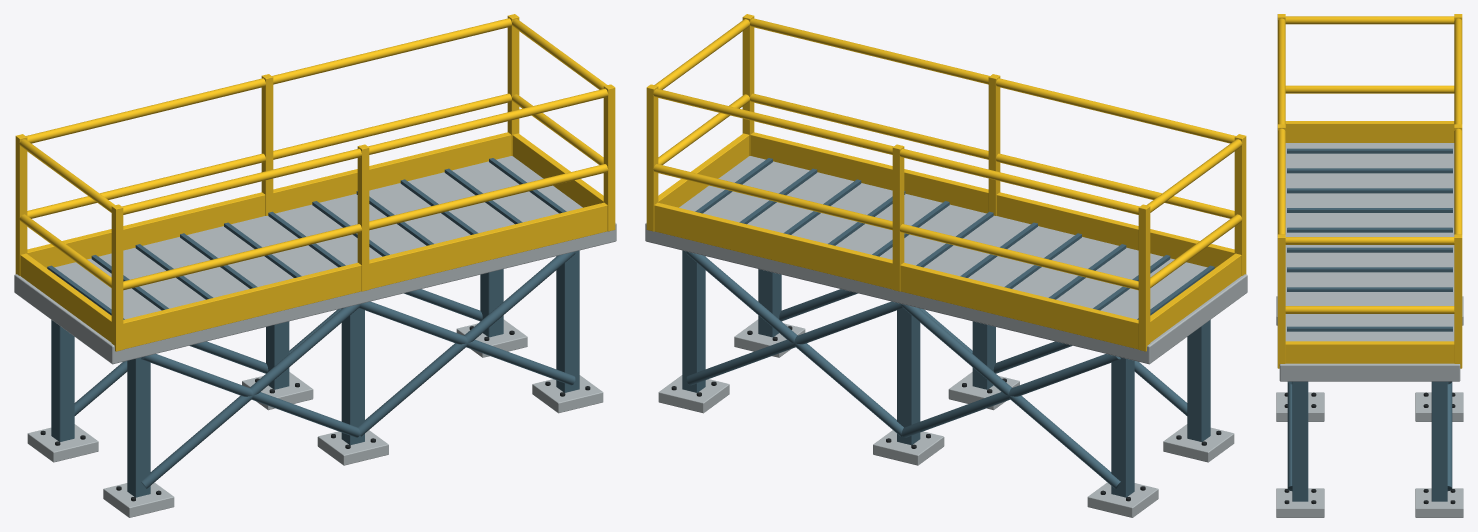
File: elevated_catwalk_platform.glb
3 views of the same model, side by side, from view 1: azimuth 30°, elevation 25°; view 2: azimuth 150°, elevation 25°; view 3: azimuth 270°, elevation 25° (orthographic). The views are drawn at different scales.
Parts seen in each view (by area): view 1: CATWALK_deck, CATWALK_toe_-0.66, CATWALK_toe_0.66, CATWALK_rail_-0.66_2.32, CATWALK_rail_-0.66_1.75, CATWALK_rail_0.66_2.32, CATWALK_rail_0.66_1.75, CATWALK_leg_-1.7_-0.52, CATWALK_leg_1.7_-0.52, CATWALK_brace_-0.58_-1.7_0, CATWALK_brace_-0.58_0_1.7, CATWALK_leg_0_-0.52 (+26 smaller); view 2: CATWALK_deck, CATWALK_toe_0.66, CATWALK_toe_-0.66, CATWALK_rail_0.66_2.32, CATWALK_rail_0.66_1.75, CATWALK_rail_-0.66_2.32, CATWALK_rail_-0.66_1.75, CATWALK_leg_-1.7_0.52, CATWALK_leg_1.7_0.52, CATWALK_brace_0.58_-1.7_0, CATWALK_brace_0.58_0_1.7, CATWALK_leg_0_0.52 (+26 smaller); view 3: CATWALK_deck, CATWALK_end_toe_1.95, CATWALK_end_toe_-1.95, CATWALK_leg_1.7_0.52, CATWALK_leg_1.7_-0.52, CATWALK_rail_0.66_2.32, CATWALK_rail_-0.66_2.32, CATWALK_end_rail_-1.95_1.75, CATWALK_end_rail_-1.95_2.32, CATWALK_end_rail_1.95_1.75, CATWALK_end_rail_1.95_2.32, CATWALK_base_plate_1.7_0.52 (+16 smaller).
Boxes of the visible parts, <box> form: CATWALK_deck: <box>14,156,616,364</box>; CATWALK_toe_-0.66: <box>123,202,607,349</box>; CATWALK_toe_0.66: <box>27,132,511,268</box>; CATWALK_rail_-0.66_2.32: <box>122,88,608,214</box>; CATWALK_rail_-0.66_1.75: <box>123,164,608,290</box>; CATWALK_rail_0.66_2.32: <box>26,18,511,143</box>; CATWALK_rail_0.66_1.75: <box>27,93,511,218</box>; CATWALK_leg_-1.7_-0.52: <box>127,357,150,497</box>; CATWALK_leg_1.7_-0.52: <box>556,250,579,392</box>; CATWALK_brace_-0.58_-1.7_0: <box>141,304,360,488</box>; CATWALK_brace_-0.58_0_1.7: <box>358,251,575,436</box>; CATWALK_leg_0_-0.52: <box>341,308,364,445</box>; CATWALK_deck: <box>645,156,1247,364</box>; CATWALK_toe_0.66: <box>654,202,1138,349</box>; CATWALK_toe_-0.66: <box>750,132,1234,268</box>; CATWALK_rail_0.66_2.32: <box>653,88,1139,214</box>; CATWALK_rail_0.66_1.75: <box>653,164,1138,290</box>; CATWALK_rail_-0.66_2.32: <box>750,18,1235,143</box>; CATWALK_rail_-0.66_1.75: <box>750,93,1234,218</box>; CATWALK_leg_-1.7_0.52: <box>1111,357,1134,497</box>; CATWALK_leg_1.7_0.52: <box>682,250,705,392</box>; CATWALK_brace_0.58_-1.7_0: <box>901,304,1120,488</box>; CATWALK_brace_0.58_0_1.7: <box>686,251,903,436</box>; CATWALK_leg_0_0.52: <box>897,308,920,445</box>; CATWALK_deck: <box>1279,143,1460,381</box>; CATWALK_end_toe_1.95: <box>1285,341,1454,363</box>; CATWALK_end_toe_-1.95: <box>1285,121,1454,142</box>; CATWALK_leg_1.7_0.52: <box>1431,381,1447,501</box>; CATWALK_leg_1.7_-0.52: <box>1292,381,1308,501</box>; CATWALK_rail_0.66_2.32: <box>1454,18,1462,234</box>; CATWALK_rail_-0.66_2.32: <box>1277,18,1285,234</box>; CATWALK_end_rail_-1.95_1.75: <box>1285,85,1454,93</box>; CATWALK_end_rail_-1.95_2.32: <box>1285,16,1454,24</box>; CATWALK_end_rail_1.95_1.75: <box>1285,306,1454,313</box>; CATWALK_end_rail_1.95_2.32: <box>1285,237,1454,244</box>; CATWALK_base_plate_1.7_0.52: <box>1415,488,1463,517</box>.
Bounding box in the file's own units: 4 × 2.36 × 1.4.
